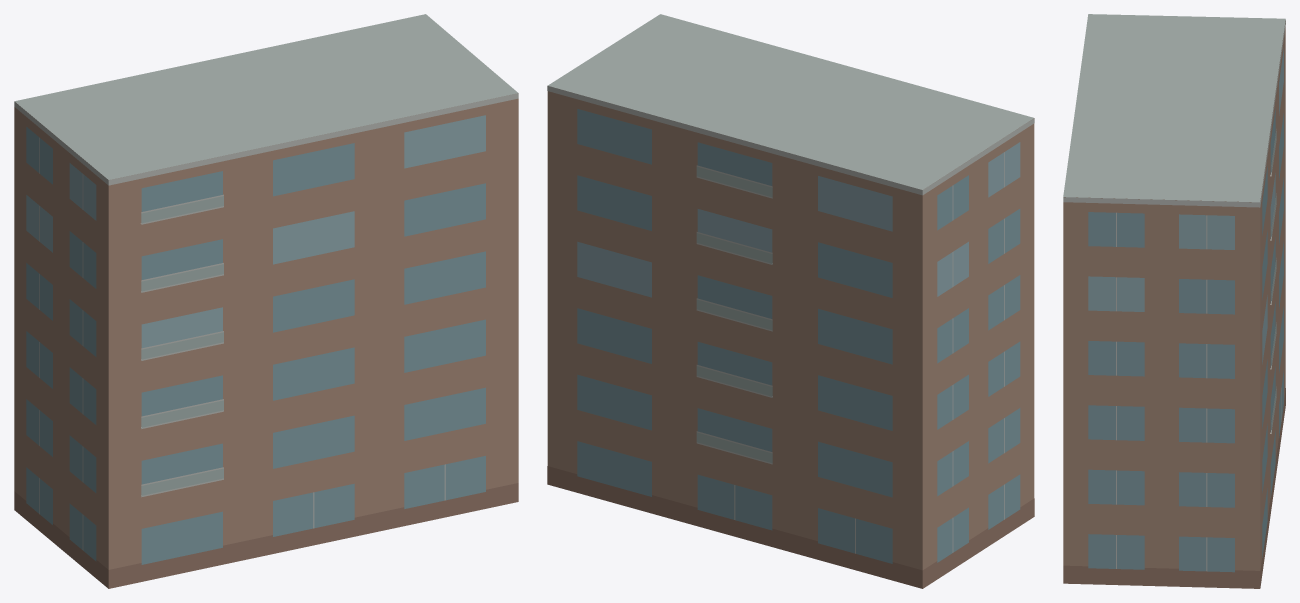
Rendered from survey-upis-32955447.glb.
3 renders of one model, left to right at view 1: azimuth 30°, elevation 25°; view 2: azimuth 150°, elevation 25°; view 3: azimuth 270°, elevation 25°, orthographic. The views are drawn at different scales.
Parts seen in each view (by area): view 1: survey-upis-32955447.tmp; view 2: survey-upis-32955447.tmp; view 3: survey-upis-32955447.tmp.
Part boxes in pixels (x1,y1,x2,y2): survey-upis-32955447.tmp: [14, 14, 518, 588]; survey-upis-32955447.tmp: [547, 14, 1034, 588]; survey-upis-32955447.tmp: [1063, 14, 1285, 588].
Size of the model in its own units: 19.13 by 18.3 by 9.56.
